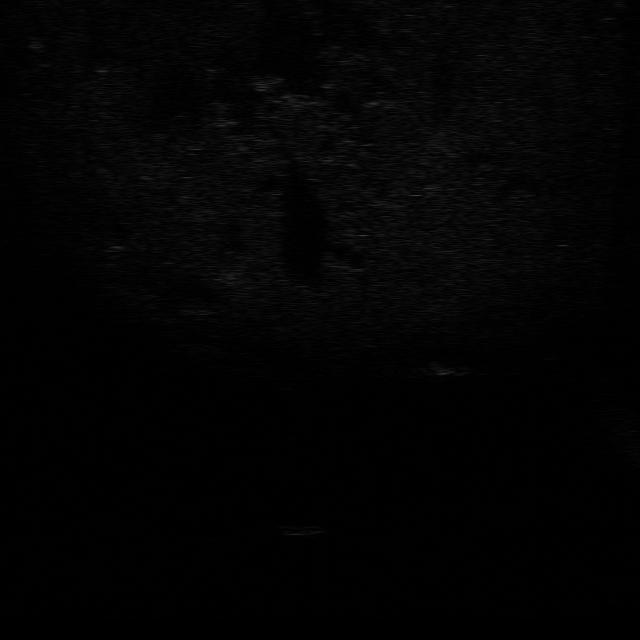cube: (274, 524, 331, 536)
square cage: (424, 357, 471, 381)
